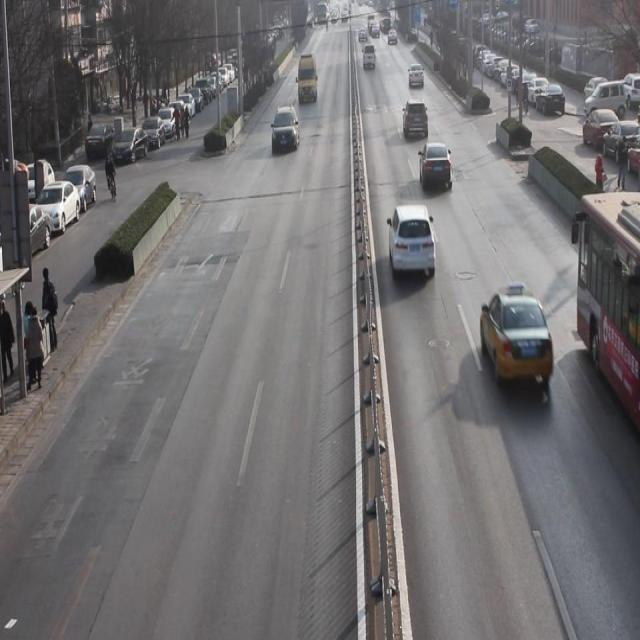car: (478, 286, 557, 395), (388, 204, 437, 284), (420, 143, 454, 194), (272, 107, 299, 155), (402, 98, 430, 144), (408, 64, 426, 90)
truck: (297, 49, 320, 112), (362, 42, 379, 71)
van: (579, 190, 640, 426)
